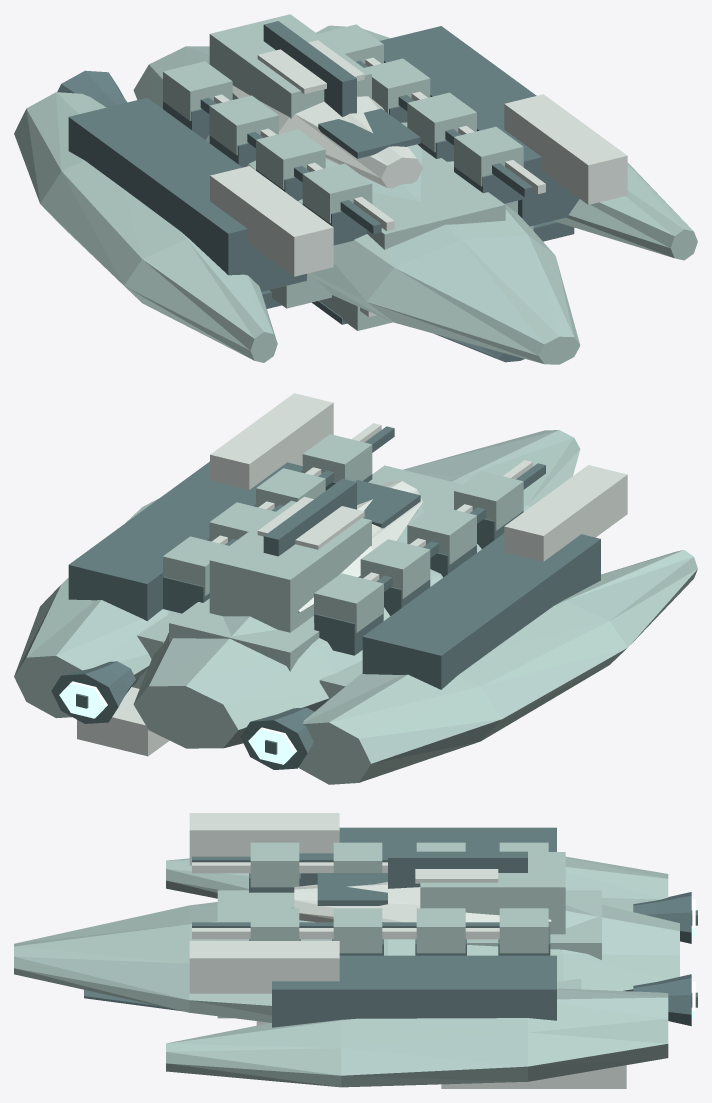
3 renders of one model, top to bottom at view 1: azimuth 30°, elevation 25°; view 2: azimuth 150°, elevation 25°; view 3: azimuth 270°, elevation 25°, orthographic. The views are drawn at different scales.
Size of the model in its own units: 20 by 7.39 by 26.34.
